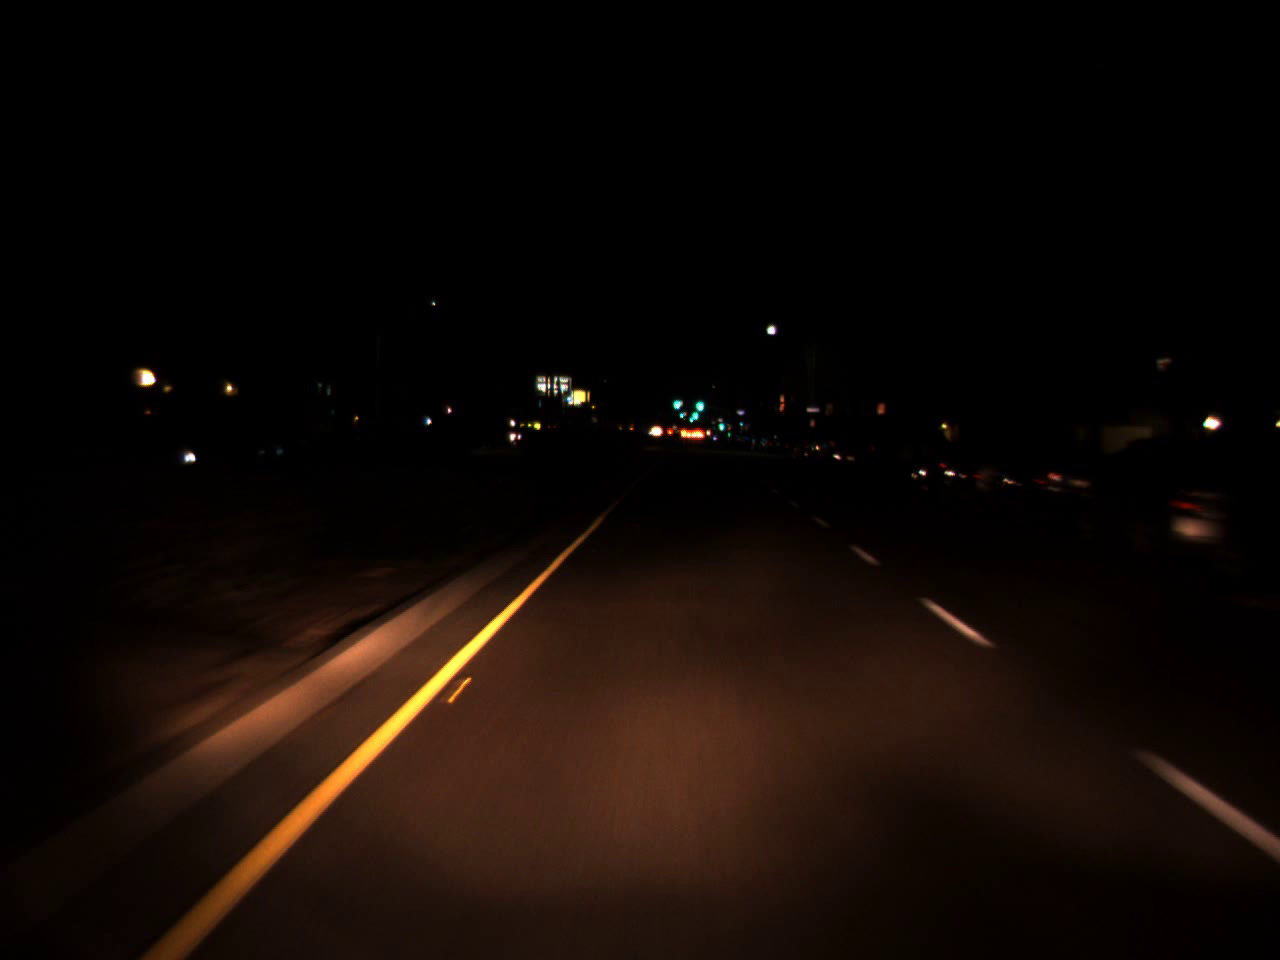go: (687, 400, 699, 424), (692, 391, 703, 412), (671, 393, 681, 411), (737, 416, 744, 428), (718, 418, 725, 430)
